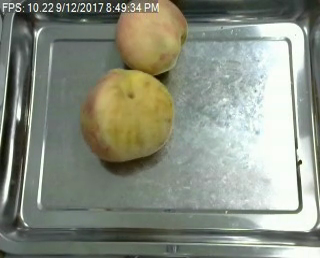Peach: (81, 67, 173, 164), (115, 0, 188, 75)
